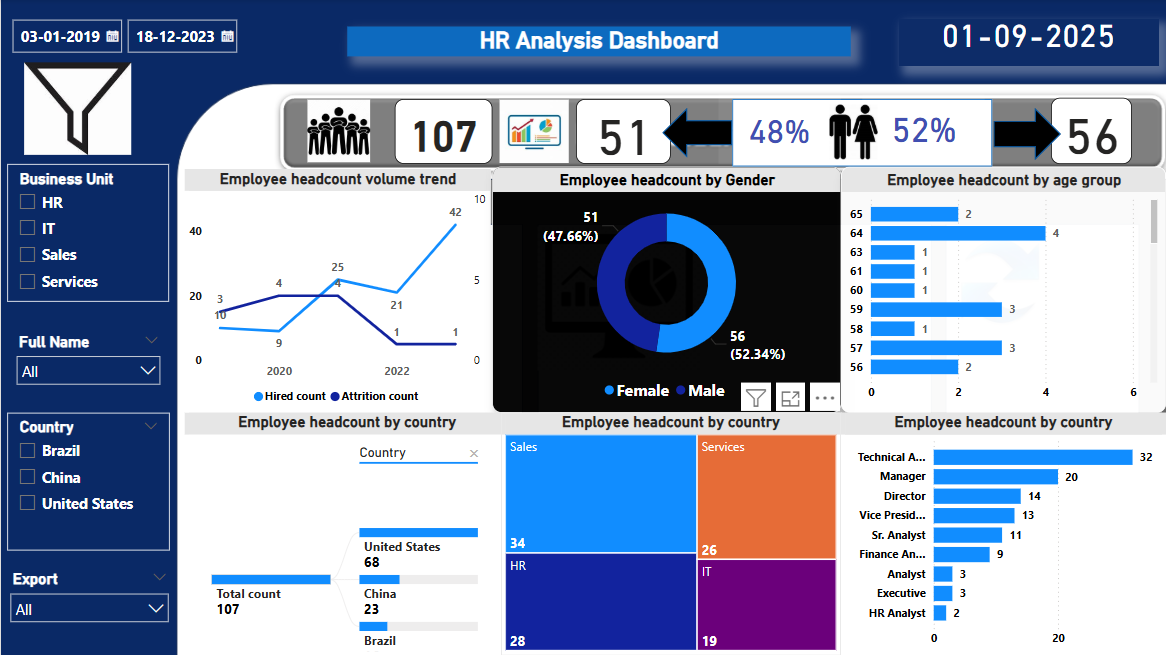

The dashboard page shown, as its layout file describes it:
{"tool":"powerbi","page":{"name":"HR Dashboard","canvas":[1280,720],"ordinal":0},"visuals":[{"type":"card","fields":{"Values":["Employee Data.Total_count"]},"box":[432.2,109.8,107,71.4],"z":0},{"type":"lineChart","title":"Employee headcount volume trend","fields":{"Y":["CountNonNull(Employee Data.EEID)"],"Y2":["CountNonNull(Employee Data.End Date)"],"Category":["Employee Data.Hire Date.Variation.Date Hierarchy.Year"]},"box":[202.3,186.2,336.4,268.1],"z":1000},{"type":"donutChart","title":"Employee headcount by Gender","fields":{"Category":["Employee Data.Gender"],"Y":["CountNonNull(Employee Data.EEID)"]},"box":[539.3,183.9,382.8,270.3],"z":2000},{"type":"clusteredBarChart","title":"Employee headcount by age group","fields":{"Category":["Employee Data.Age"],"Y":["CountNonNull(Employee Data.EEID)"]},"box":[922.1,183.9,356.8,270.3],"z":3000},{"type":"decompositionTreeVisual","title":"Employee headcount by country","fields":{"Analyze":["CountNonNull(Employee Data.Country)"],"ExplainBy":["Employee Data.Country"]},"box":[201.7,454.2,356.8,266.2],"z":4000},{"type":"treemap","title":"Employee headcount by country","fields":{"Group":["Employee Data.Business Unit"],"Values":["CountNonNull(Employee Data.EEID)"]},"box":[548.9,454.2,373.2,266.2],"z":5000},{"type":"clusteredBarChart","title":"Employee headcount by country","fields":{"Category":["Employee Data.Job Title"],"Y":["CountNonNull(Employee Data.EEID)"]},"box":[922.1,454.2,356.8,266.2],"z":6000},{"type":"shape","box":[802.7,109.8,285.4,74.1],"z":7000},{"type":"card","fields":{"Values":["Employee Data.Total_count_male"]},"box":[631.2,109.8,104.3,71.4],"z":8000},{"type":"card","fields":{"Values":["Employee Data.Total_count_female"]},"box":[1152.7,108.4,89.2,72.7],"z":9000},{"type":"card","fields":{"Values":["Employee Data.Male%"]},"box":[787.7,104.3,134.5,76.8],"z":10000},{"type":"card","fields":{"Values":["Employee Data.Female%"]},"box":[945.5,104.3,134.5,72.7],"z":11000},{"type":"shape","title":"HR      Analysis     Dashboard ","box":[379.6,29.7,553.1,32.6],"z":12000},{"type":"shape","box":[725.9,119.4,76.8,54.9],"z":13000},{"type":"shape","box":[1089.5,119.4,74.1,57.6],"z":14000},{"type":"slicer","fields":{"Values":["Employee Data.Business Unit"]},"box":[7.4,180.9,177.9,151.3],"z":15000},{"type":"slicer","fields":{"Values":["Employee Data.Country"]},"box":[7.1,454.7,178.2,151.1],"z":16000},{"type":"slicer","fields":{"Values":["Employee Data.Full Name"]},"box":[7.1,360.6,178.2,151.1],"z":17000},{"type":"slicer","fields":{"Values":["Employee Data.Hire Date"]},"box":[0,11.9,269.9,99.4],"z":18000},{"type":"card","fields":{"Values":["Min(Query1.Last refresh)"]},"box":[984.6,22.2,286.2,51.9],"z":19000},{"type":"image","box":[325.7,106.2,90.5,78.4],"z":20000},{"type":"image","box":[891.9,111.1,87.8,70],"z":21000},{"type":"slicer","fields":{"Values":["Employee Data.Department","Employee Data.EEID","Employee Data.Full Name","Employee Data.Country","Employee Data.Gender","Employee Data.Hire Date","Employee Data.City","Employee Data.Job Title","Employee Data.Business Unit"]},"box":[0,621.5,193.9,98.4],"z":22000},{"type":"image","box":[539.3,105.7,91.9,79.6],"z":23000},{"type":"image","box":[20.8,53.4,127.5,133.5],"z":24000}]}

Visuals, with their boxes in screenshot pixels (x1, y1, x2, y2), scaled from the page's 1280x720 canvas onto the 1166x655 screenshot:
card - Employee Data.Total_count: [x1=394, y1=100, x2=491, y2=165]
"Employee headcount volume trend" lineChart: [x1=184, y1=169, x2=491, y2=413]
"Employee headcount by Gender" donutChart: [x1=491, y1=167, x2=840, y2=413]
"Employee headcount by age group" clusteredBarChart: [x1=840, y1=167, x2=1165, y2=413]
"Employee headcount by country" decompositionTreeVisual: [x1=184, y1=413, x2=509, y2=654]
"Employee headcount by country" treemap: [x1=500, y1=413, x2=840, y2=654]
"Employee headcount by country" clusteredBarChart: [x1=840, y1=413, x2=1165, y2=654]
shape: [x1=731, y1=100, x2=991, y2=167]
card - Employee Data.Total_count_male: [x1=575, y1=100, x2=670, y2=165]
card - Employee Data.Total_count_female: [x1=1050, y1=99, x2=1131, y2=165]
card - Employee Data.Male%: [x1=718, y1=95, x2=840, y2=165]
card - Employee Data.Female%: [x1=861, y1=95, x2=984, y2=161]
"HR      Analysis     Dashboard " shape: [x1=346, y1=27, x2=850, y2=57]
shape: [x1=661, y1=109, x2=731, y2=159]
shape: [x1=992, y1=109, x2=1060, y2=161]
slicer - Employee Data.Business Unit: [x1=7, y1=165, x2=169, y2=302]
slicer - Employee Data.Country: [x1=6, y1=414, x2=169, y2=551]
slicer - Employee Data.Full Name: [x1=6, y1=328, x2=169, y2=466]
slicer - Employee Data.Hire Date: [x1=0, y1=11, x2=246, y2=101]
card - Min(Query1.Last refresh): [x1=897, y1=20, x2=1158, y2=67]
image: [x1=297, y1=97, x2=379, y2=168]
image: [x1=812, y1=101, x2=892, y2=165]
slicer - Employee Data.Department x Employee Data.EEID: [x1=0, y1=565, x2=177, y2=654]
image: [x1=491, y1=96, x2=575, y2=169]
image: [x1=19, y1=49, x2=135, y2=170]
